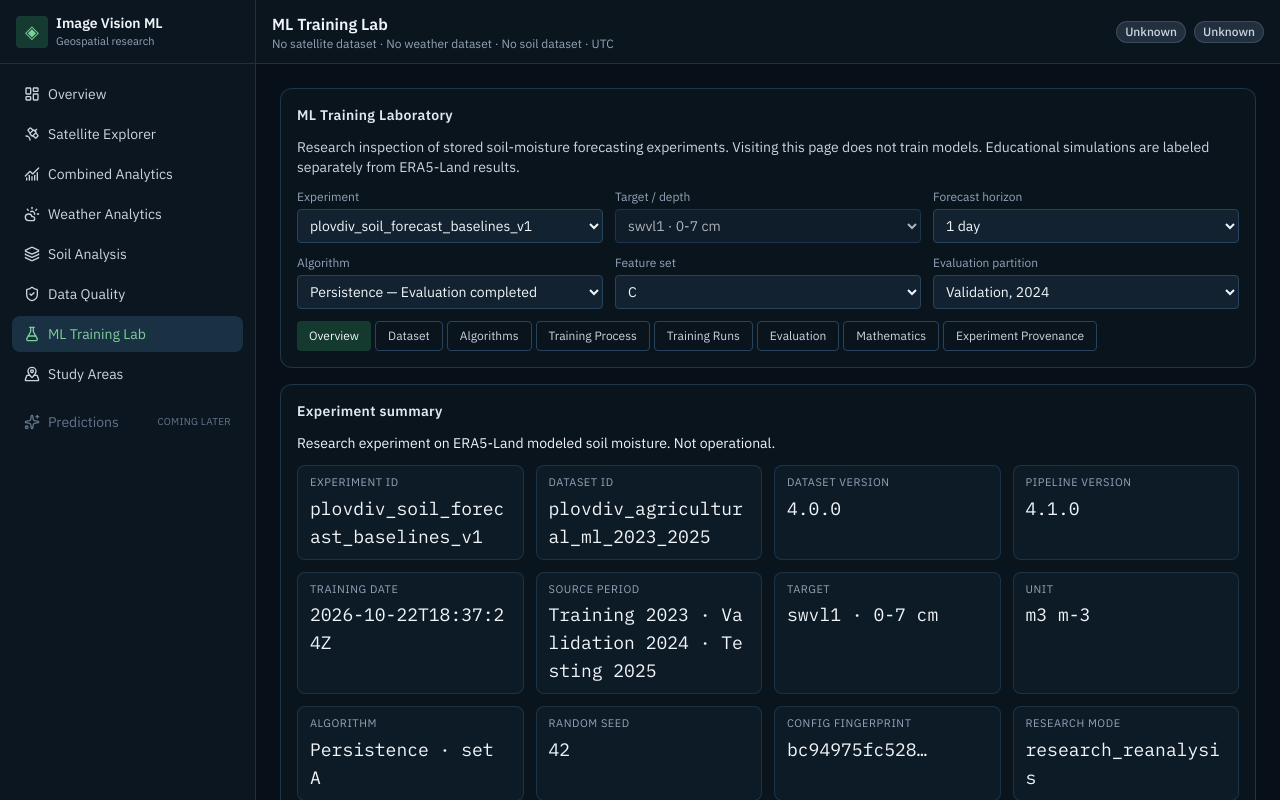
Test: ML Training Laboratory › shows training history unavailable and does not invent a loss curve
Check: the heading "Experiment summary" is shown, box [297,401,443,421]
Click the tab "Training Process" at (593, 336), box [536,321,650,351]
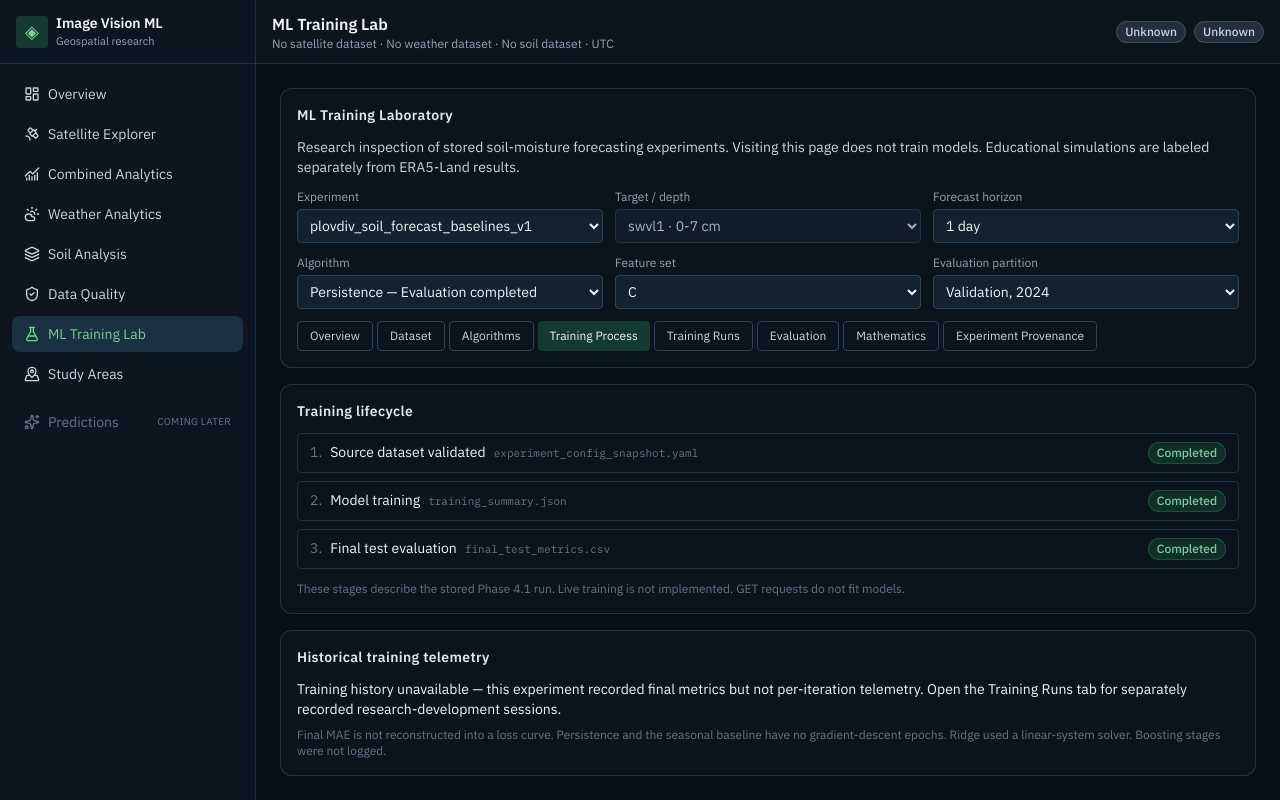
Check: the text with test id "training-history-unavailable" shows "Training history unavailable", box [297,680,924,698]
Check: the text "Live training is not implemented" is shown, box [297,581,905,596]
